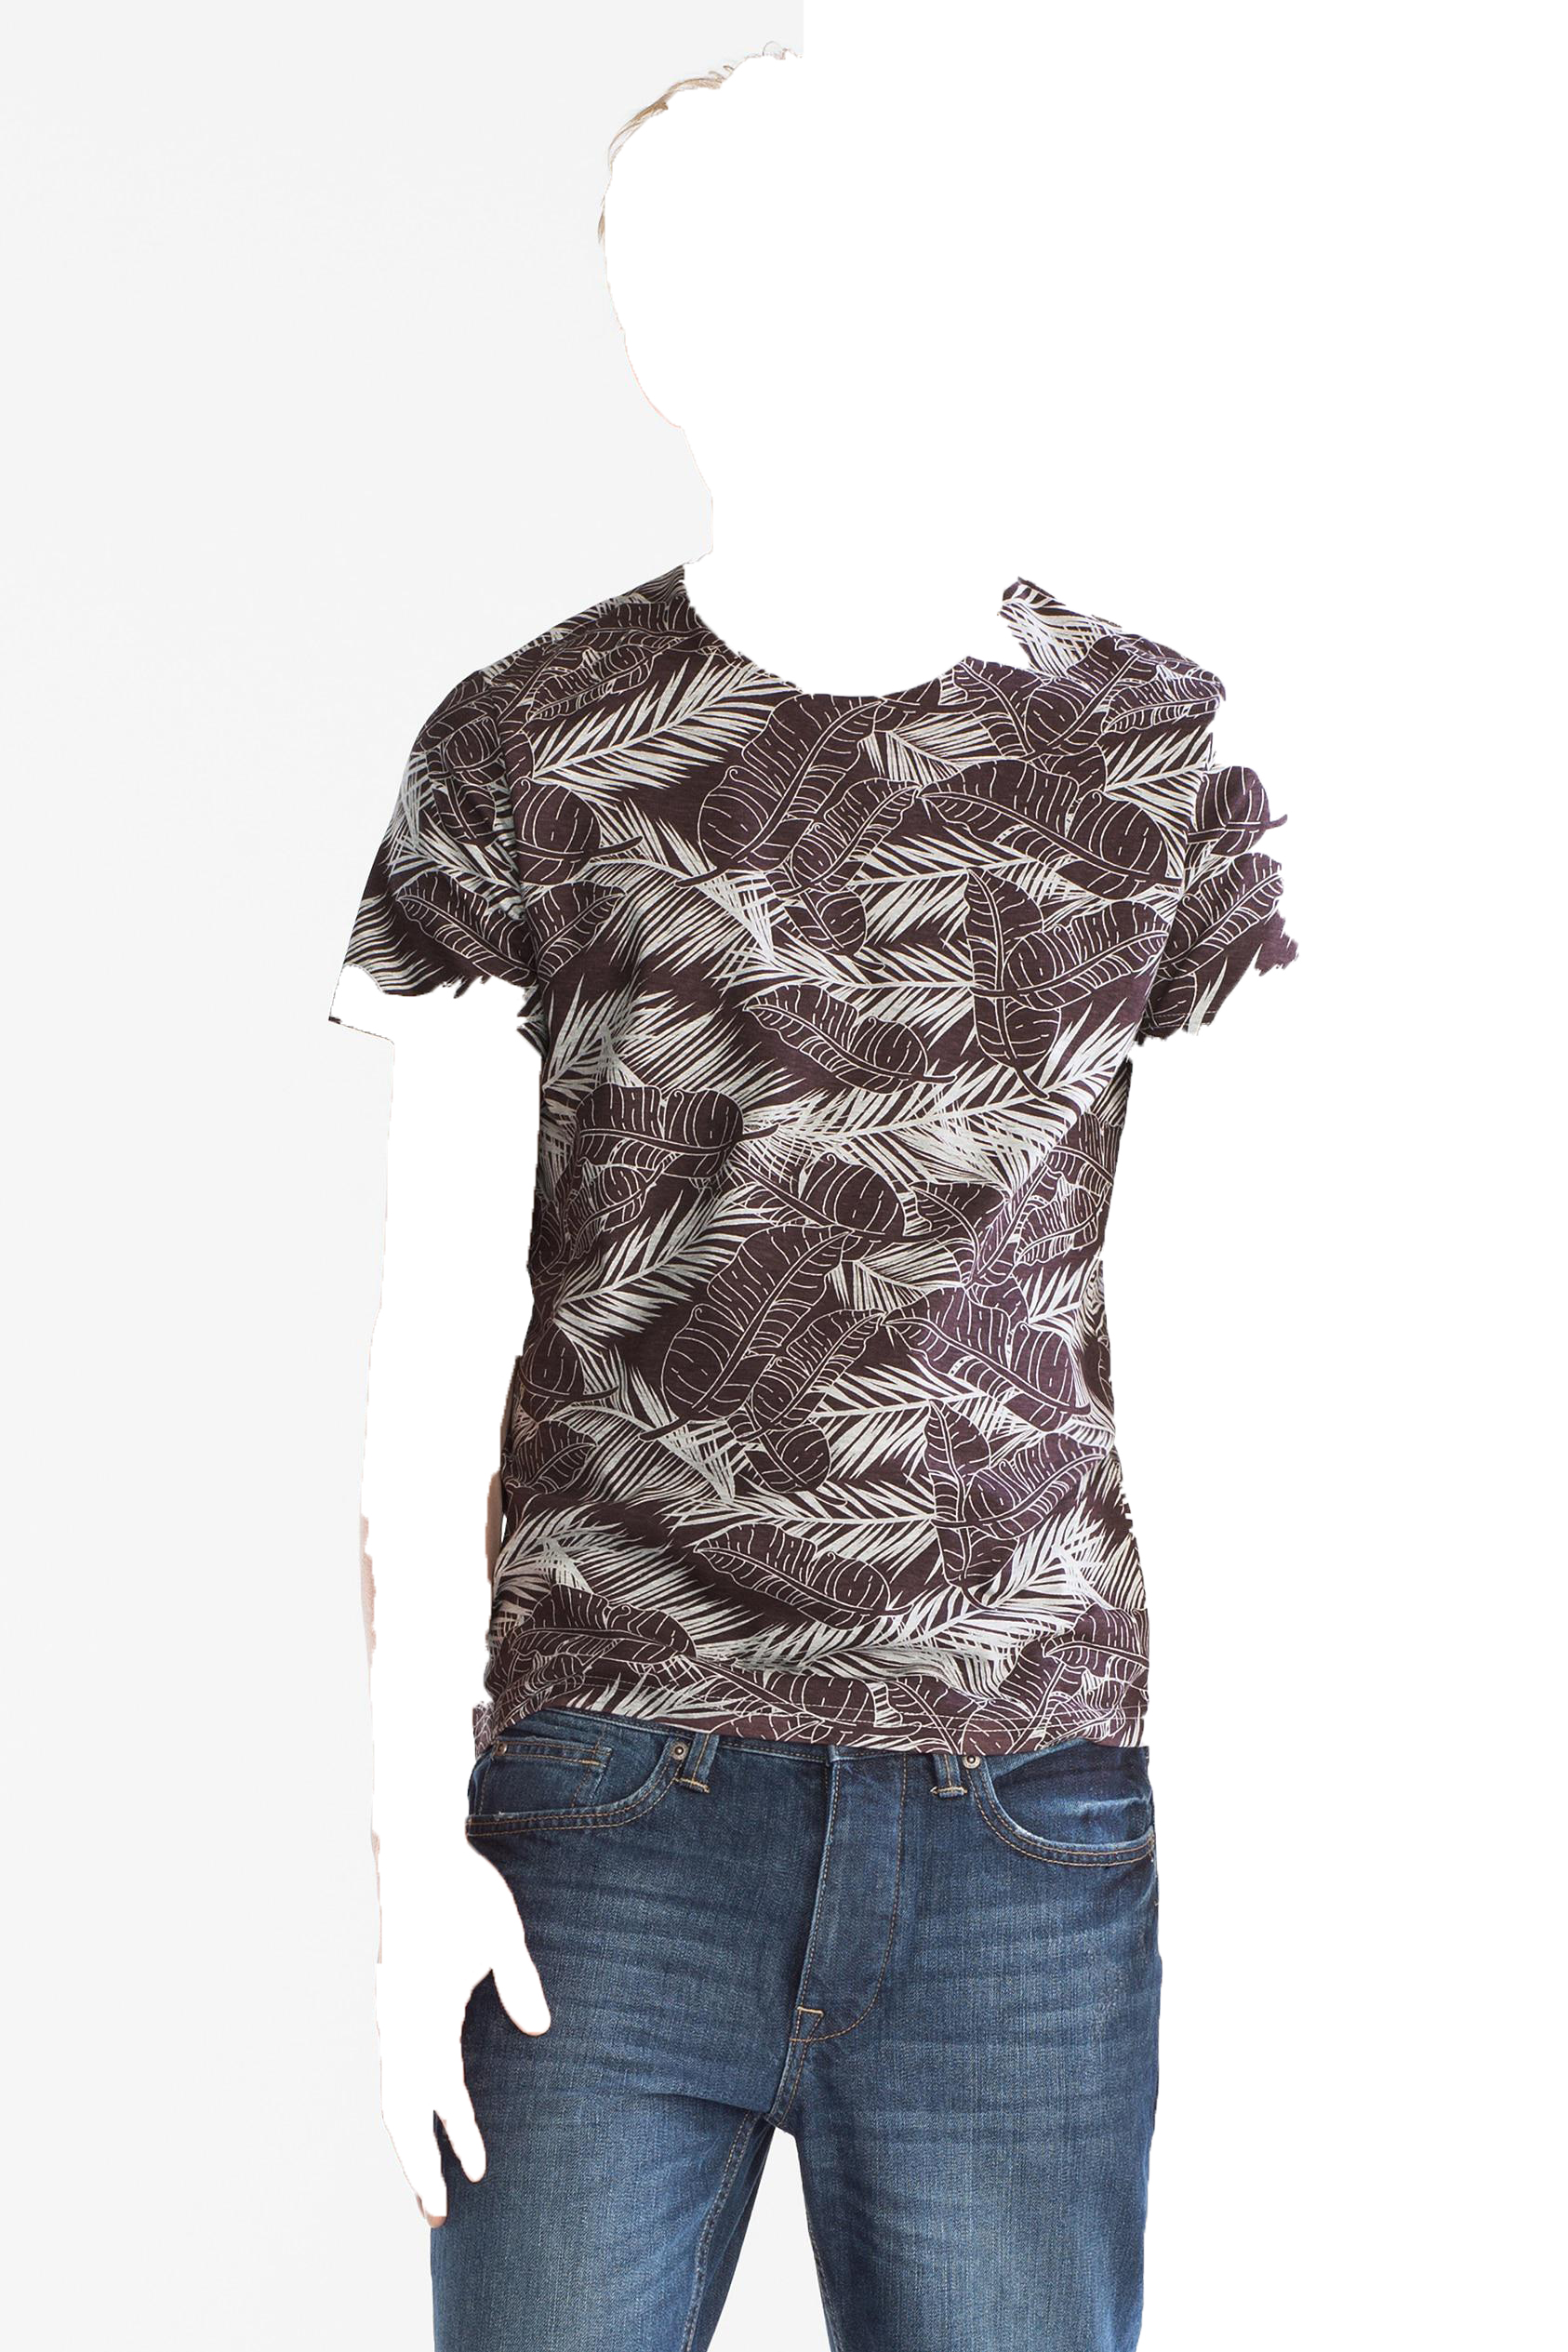teeshirt: (292, 560, 1328, 1776)
